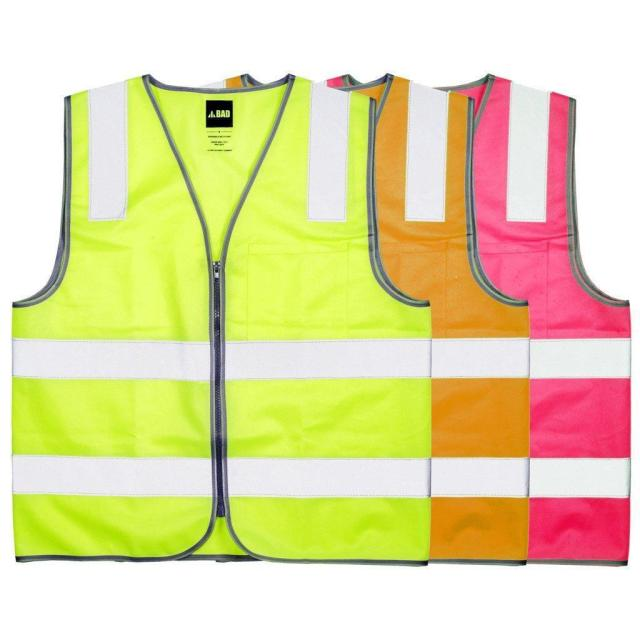Vest: (9, 72, 434, 568), (332, 74, 530, 566), (436, 73, 632, 569)
